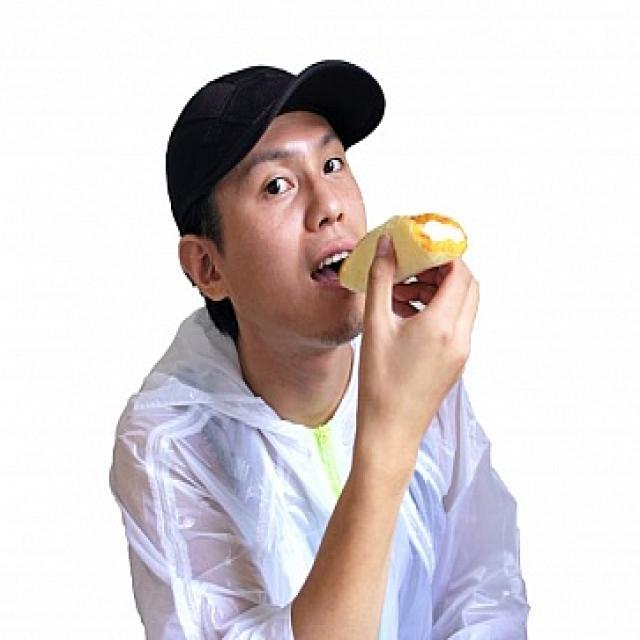Eyes: (246, 143, 360, 204)
